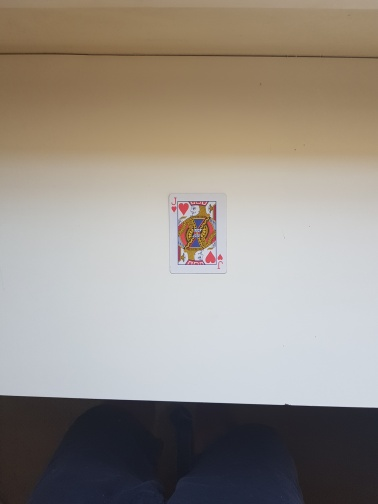jack: (167, 192, 227, 275)
